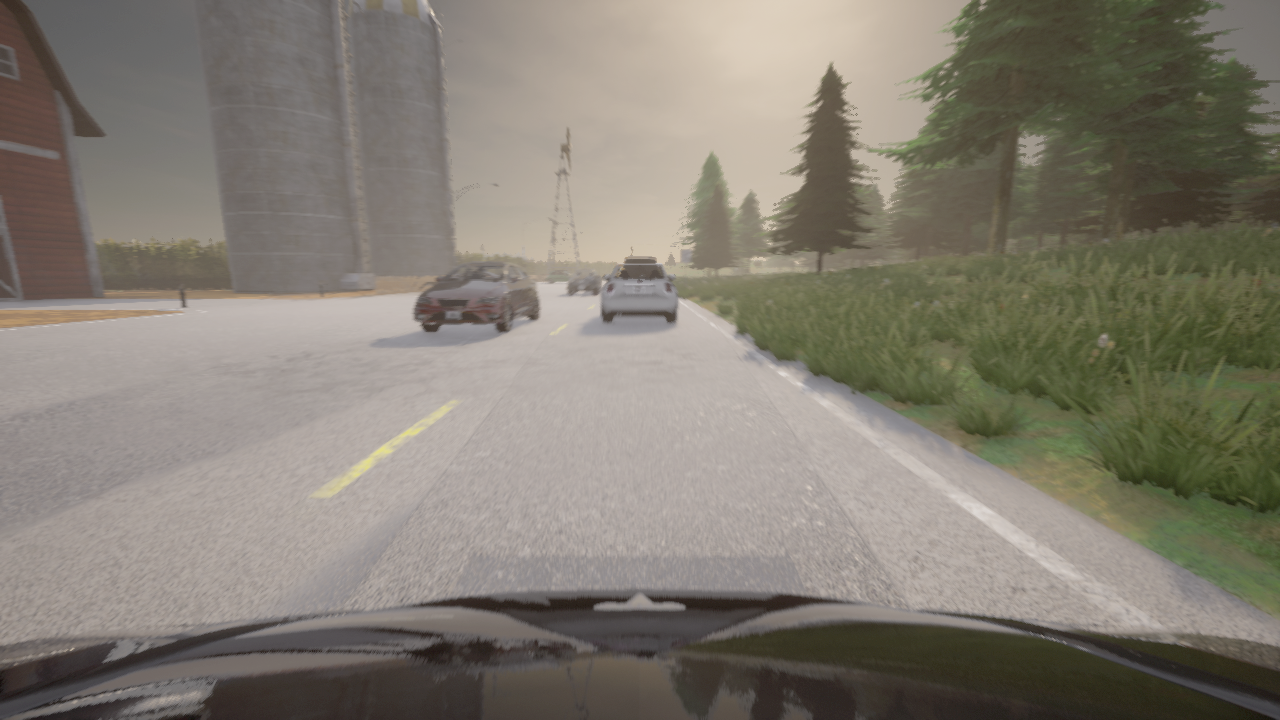cyclist: (0, 588, 1279, 719), (414, 262, 539, 332), (601, 263, 677, 322), (568, 268, 601, 294), (546, 270, 571, 282), (625, 257, 656, 262), (554, 269, 567, 271)
